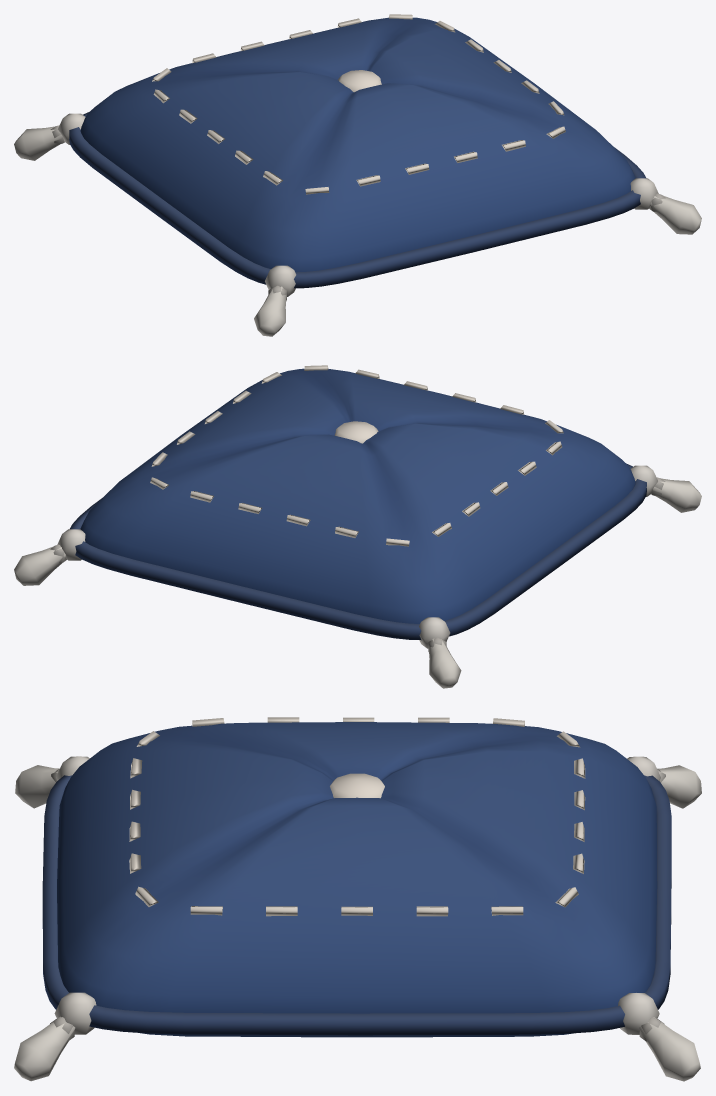
The model's file is furn-zabutonBlue.glb.
3 views of the same model, one above another, from view 1: azimuth 30°, elevation 25°; view 2: azimuth 150°, elevation 25°; view 3: azimuth 270°, elevation 25° (orthographic). The views are drawn at different scales.
Parts seen in each view (by area): view 1: cloth; view 2: cloth; view 3: cloth.
Part boxes in pixels (x1,y1,x2,y2): cloth: [14, 14, 701, 336]; cloth: [14, 365, 701, 688]; cloth: [14, 717, 701, 1081].
Bounding box in the file's own units: 0.5018 × 0.1317 × 0.5022.
